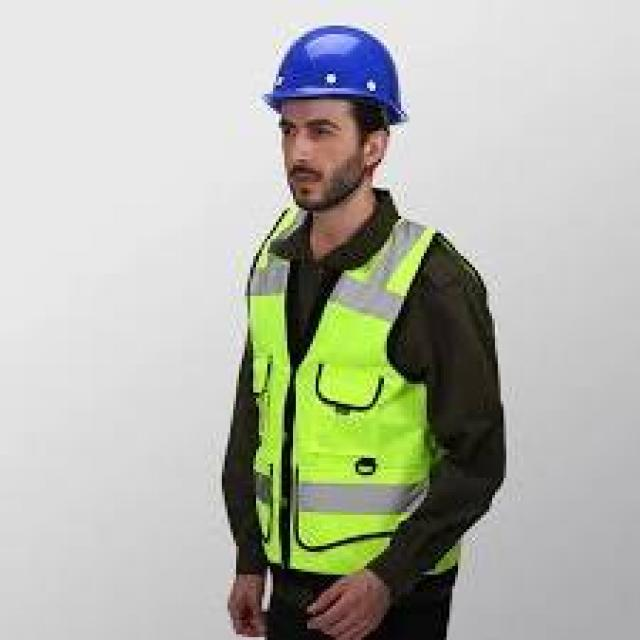Reflective-Jacket: (231, 197, 484, 598)
Safety-Helmet: (253, 17, 424, 134)
